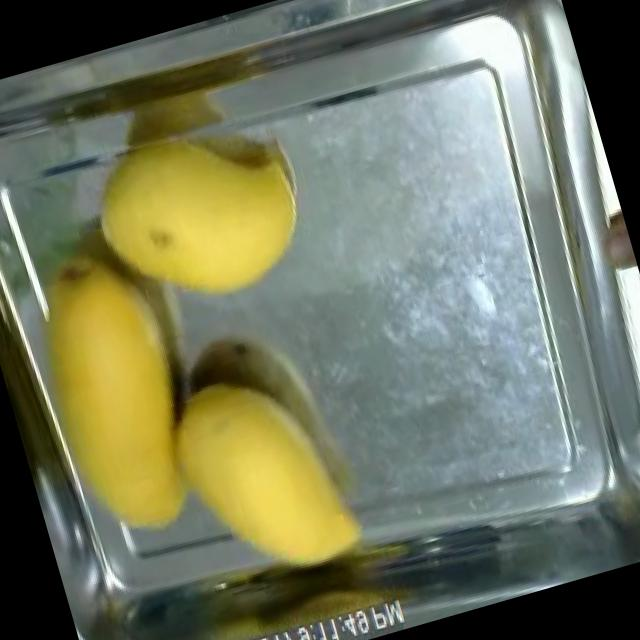fruit: (0, 202, 247, 577), (140, 334, 390, 606), (67, 90, 330, 336)
